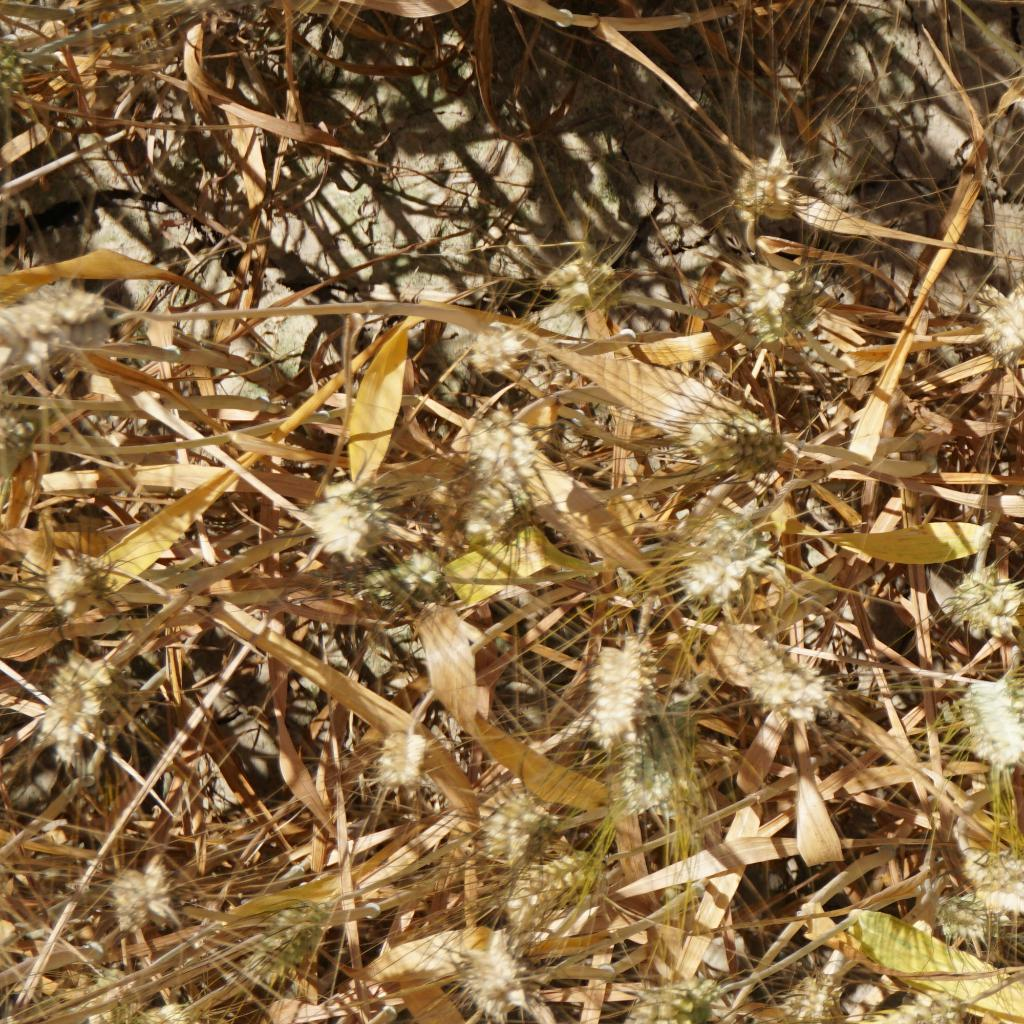0-0: (519, 839, 625, 937), (658, 517, 766, 607), (688, 396, 797, 484), (455, 400, 554, 495), (620, 699, 694, 813), (308, 483, 415, 561), (723, 137, 818, 224), (41, 649, 120, 749), (534, 240, 631, 318), (442, 305, 539, 380), (105, 850, 184, 941), (576, 638, 654, 729), (352, 542, 455, 608), (470, 930, 550, 1012), (469, 777, 554, 853), (728, 252, 796, 345), (0, 296, 112, 352), (368, 725, 446, 799), (733, 659, 820, 716), (947, 568, 1015, 638), (975, 676, 1024, 772), (39, 543, 113, 605), (972, 275, 1024, 359), (259, 910, 324, 976), (967, 835, 1024, 910), (641, 964, 720, 1018), (925, 886, 988, 944), (790, 971, 855, 1024), (907, 984, 963, 1024)
